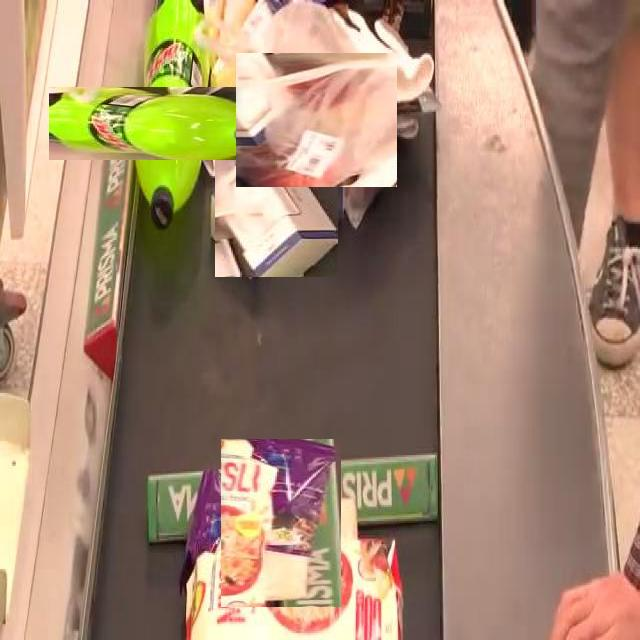beverage: (93, 43, 253, 204)
food-box: (190, 535, 401, 640), (208, 451, 353, 596)
fruit: (242, 46, 390, 194)
utility-box: (213, 150, 339, 275)
